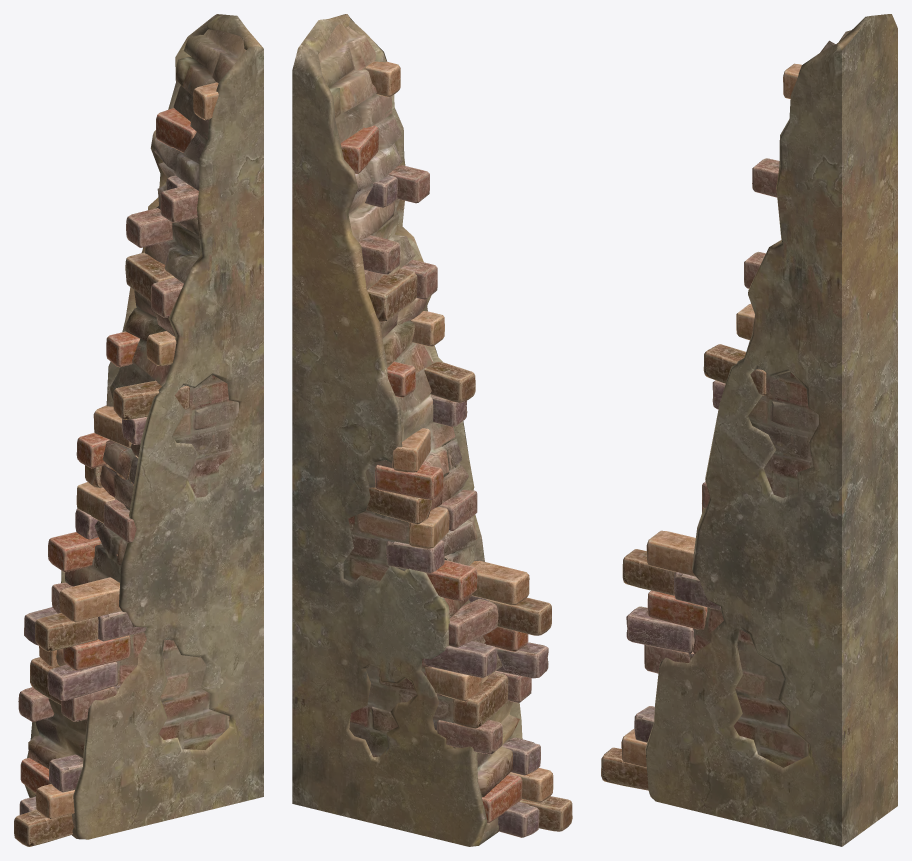
3 renders of one model, left to right at view 1: azimuth 30°, elevation 25°; view 2: azimuth 150°, elevation 25°; view 3: azimuth 330°, elevation 25°, orthographic. The views are drawn at different scales.
Visible parts, largest first — view 1: SM_Human_Ruins_Pillar_03_LOD0; view 2: SM_Human_Ruins_Pillar_03_LOD0; view 3: SM_Human_Ruins_Pillar_03_LOD0.
Part boxes in pixels (left/top/right/bottom): SM_Human_Ruins_Pillar_03_LOD0: left=14, top=14, right=263, bottom=846; SM_Human_Ruins_Pillar_03_LOD0: left=292, top=14, right=572, bottom=846; SM_Human_Ruins_Pillar_03_LOD0: left=601, top=14, right=897, bottom=846.
Bounding box in the file's own units: 1.28 × 4.01 × 0.5161.
Materials: 3 (3 with a texture image).
